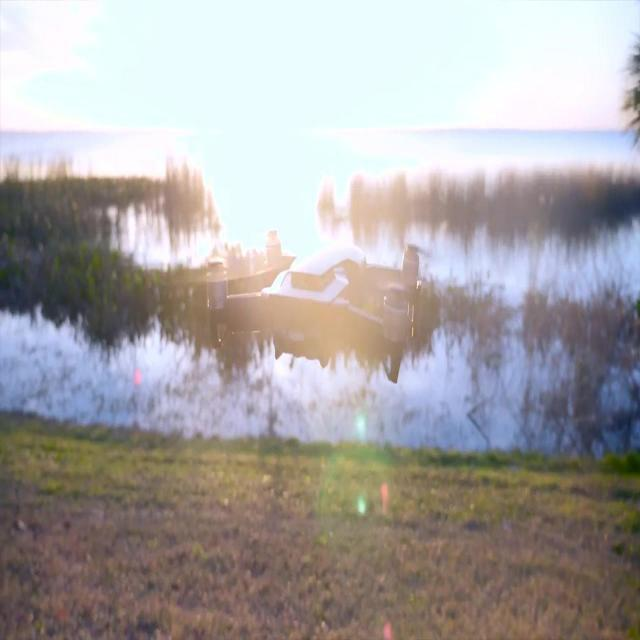UAV: (204, 229, 440, 384)
